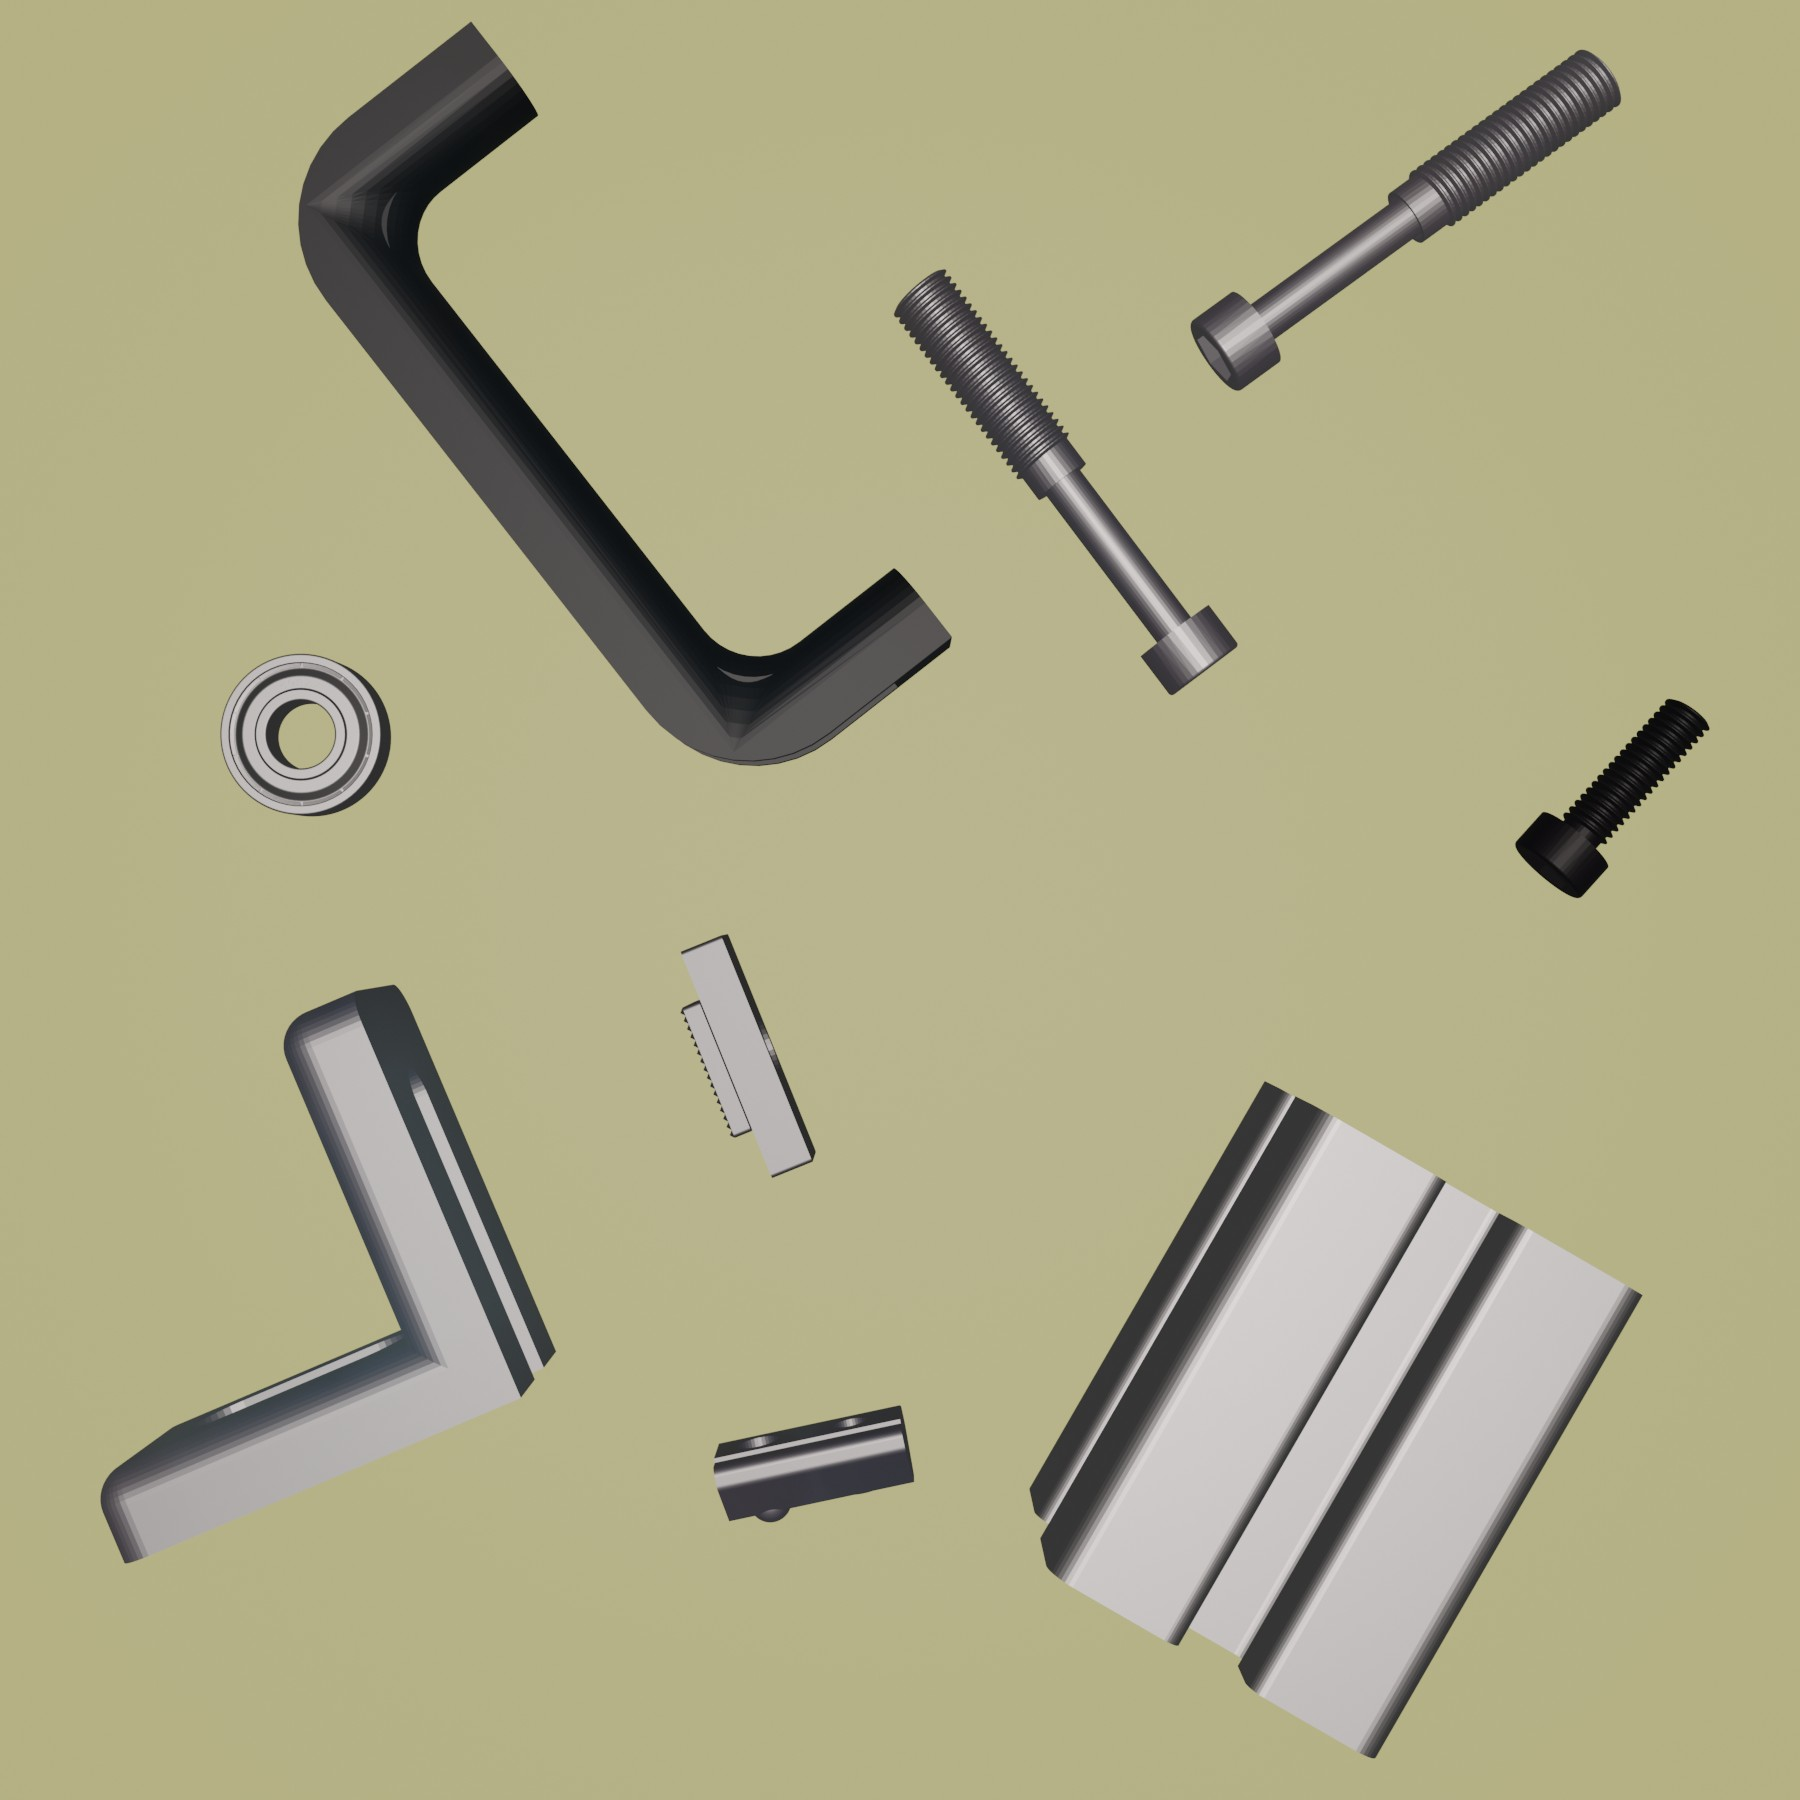Aluminium Extension: (1024, 1076, 1647, 1760)
Ball Bearing: (218, 651, 392, 819)
Multiwinkel: (97, 984, 555, 1568)
Pull Handle: (297, 20, 951, 770)
Shoulder Socket Head Cap Screw: (892, 265, 1240, 697), (1188, 48, 1624, 392)
Socket Head Cap Screw: (1513, 696, 1713, 902)
T Nut Square: (676, 930, 818, 1182)
T Spring Nut: (710, 1399, 916, 1526)
